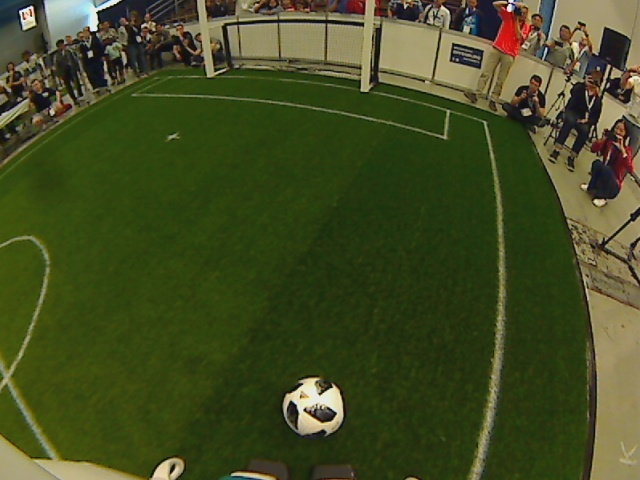ball: (278, 374, 346, 440)
